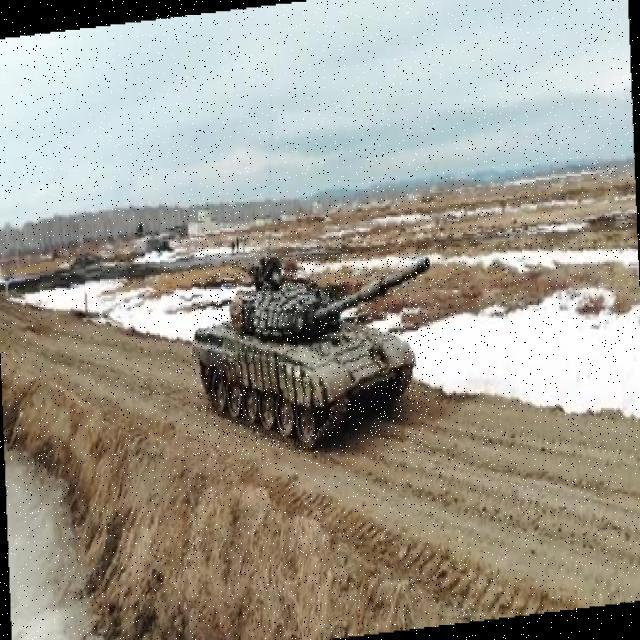MIL_MBT: (193, 253, 430, 455)
